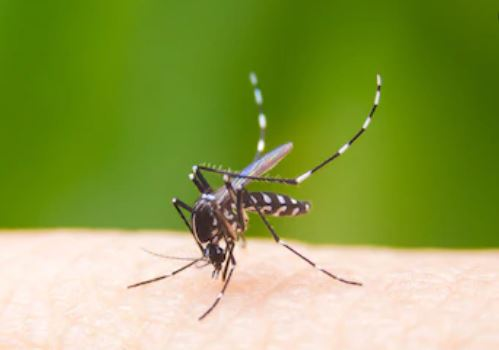dengue_mosquito: (173, 114, 362, 284)
